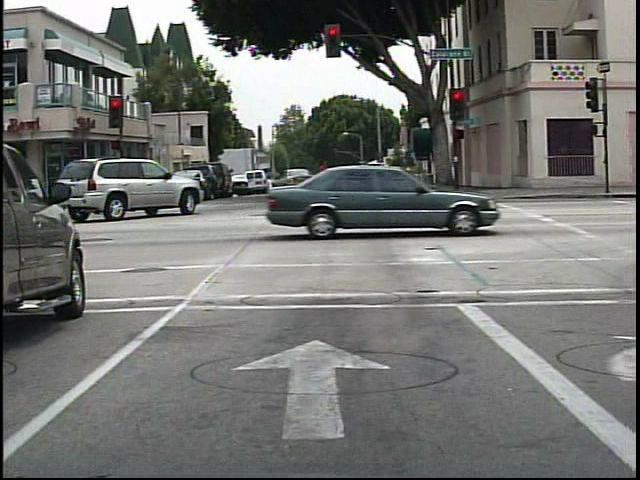person: (311, 159, 340, 204)
